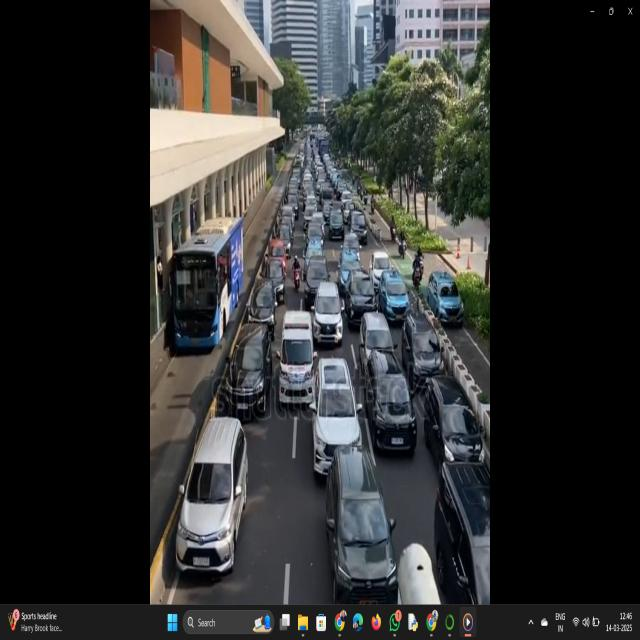Ambulance: (274, 306, 317, 418)
